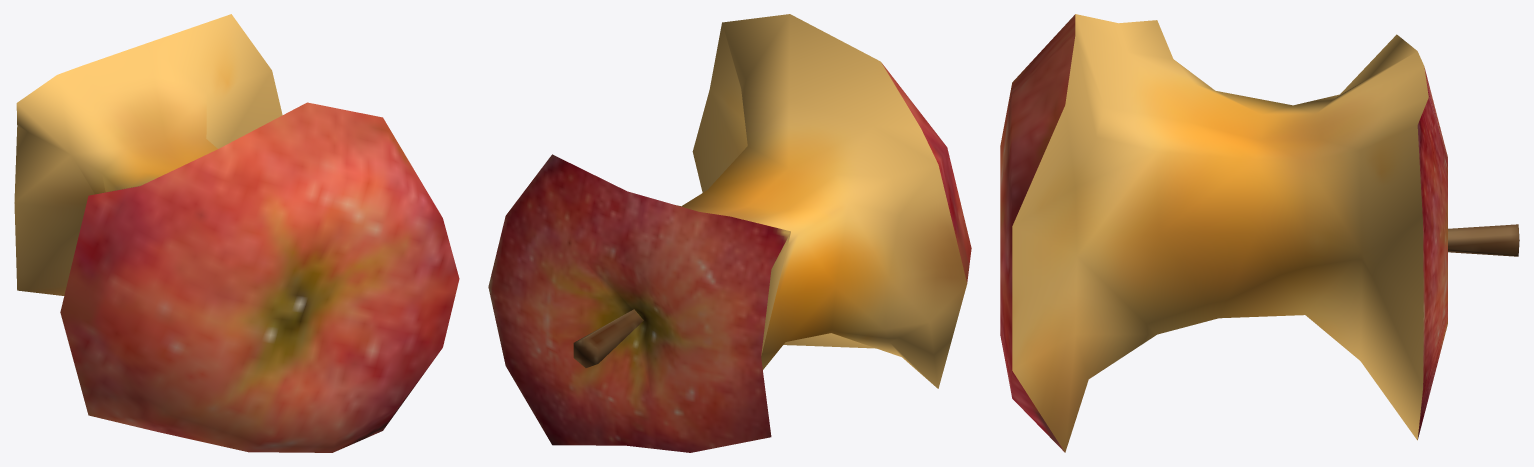
The model's file is buah_apel_kroak.fbx.
The picture shows the model from 3 angles, left to right: view 1: azimuth 30°, elevation 25°; view 2: azimuth 150°, elevation 25°; view 3: azimuth 270°, elevation 25°; orthographic projection. The views are drawn at different scales.
Visible parts, largest first — view 1: Circle; view 2: Circle; view 3: Circle.
Boxes of the visible parts, x1,y1,x2,y2 form: Circle: (14,14,459,452); Circle: (488,14,971,452); Circle: (1000,14,1519,452).
Size of the model in its own units: 76.4 by 71.81 by 88.9.
1 material, 1 textured.
